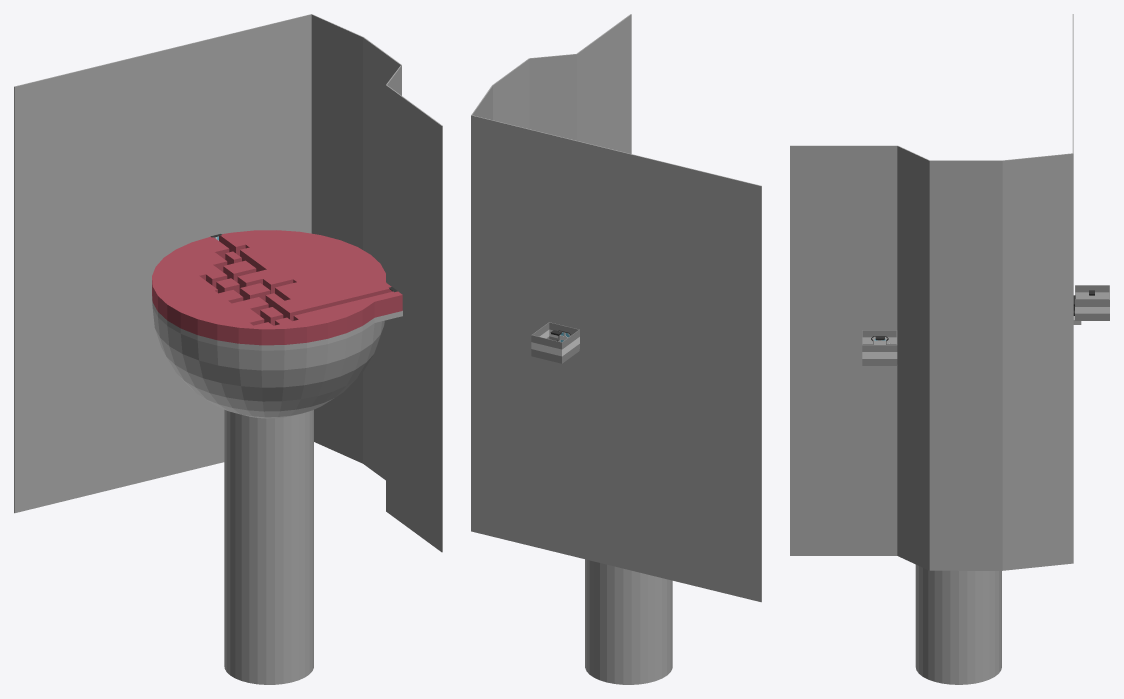
Rendered from Segap 01 11 Maze.fbx.
3 views of the same model, side by side, from view 1: azimuth 30°, elevation 25°; view 2: azimuth 150°, elevation 25°; view 3: azimuth 270°, elevation 25° (orthographic). The views are drawn at different scales.
Visible parts, largest first — view 1: Plane.031, Sphere.011, Plane.028; view 2: Plane.031, Sphere.011, Plane.026; view 3: Plane.031, Sphere.011, Plane.026, Plane.029.
Part boxes in pixels (x1,y1,x2,y2): Plane.031: [14, 14, 442, 552]; Sphere.011: [152, 296, 402, 684]; Plane.028: [152, 230, 402, 345]; Plane.031: [471, 14, 761, 602]; Sphere.011: [585, 559, 672, 684]; Plane.026: [531, 322, 579, 363]; Plane.031: [790, 14, 1073, 570]; Sphere.011: [915, 316, 1081, 684]; Plane.026: [1075, 285, 1109, 320]; Plane.029: [862, 330, 897, 365].
Size of the model in its own units: 6148 by 11100 by 5658.
